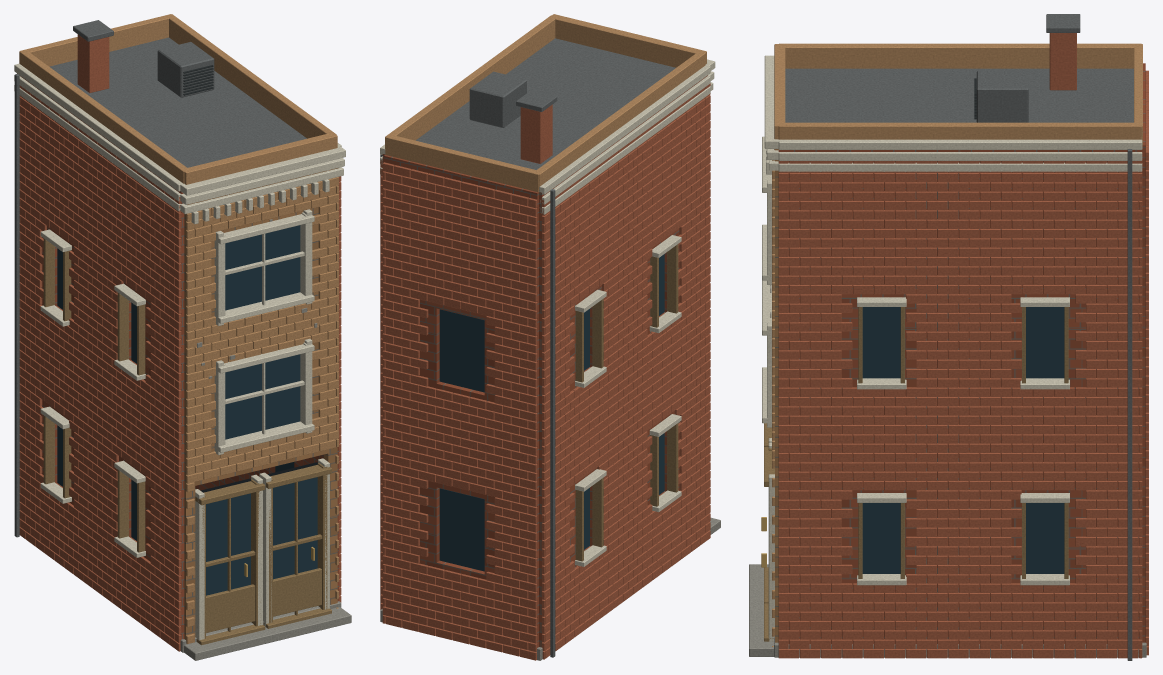
The model's file is OFFC10_lod0.glb.
3 views of the same model, side by side, from view 1: azimuth 30°, elevation 25°; view 2: azimuth 150°, elevation 25°; view 3: azimuth 270°, elevation 25° (orthographic). The views are drawn at different scales.
Visible parts, largest first — view 1: OFFC10_LOD0; view 2: OFFC10_LOD0; view 3: OFFC10_LOD0.
Part boxes in pixels (x1,y1,x2,y2): OFFC10_LOD0: (14, 14, 351, 660); OFFC10_LOD0: (380, 14, 720, 660); OFFC10_LOD0: (749, 14, 1148, 660).
Bounding box in the file's own units: 3.71 × 10.45 × 6.6.
Materials: 16 (13 with a texture image).
